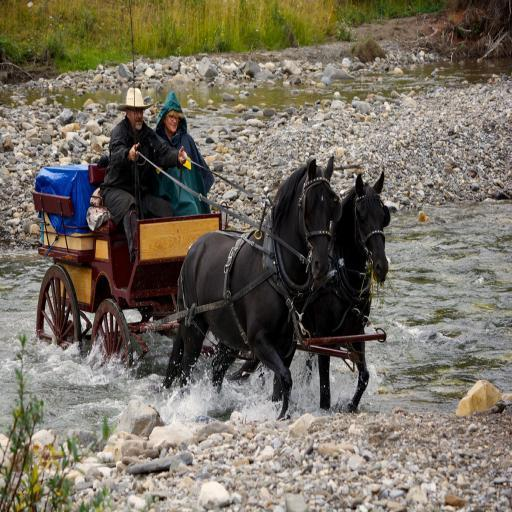horse: (160, 152, 338, 422), (226, 167, 392, 415)
